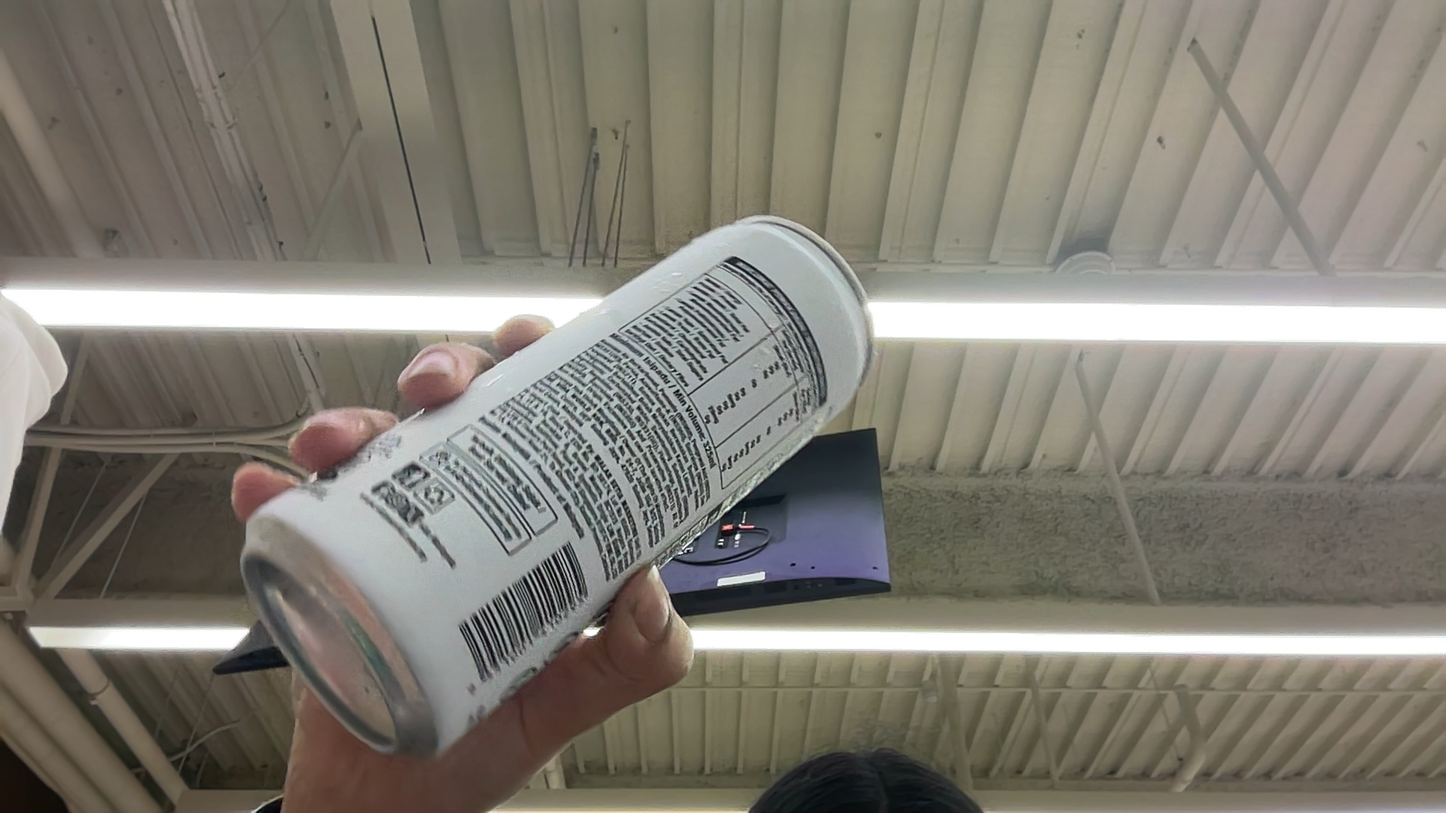Metal: (48, 191, 919, 775)
